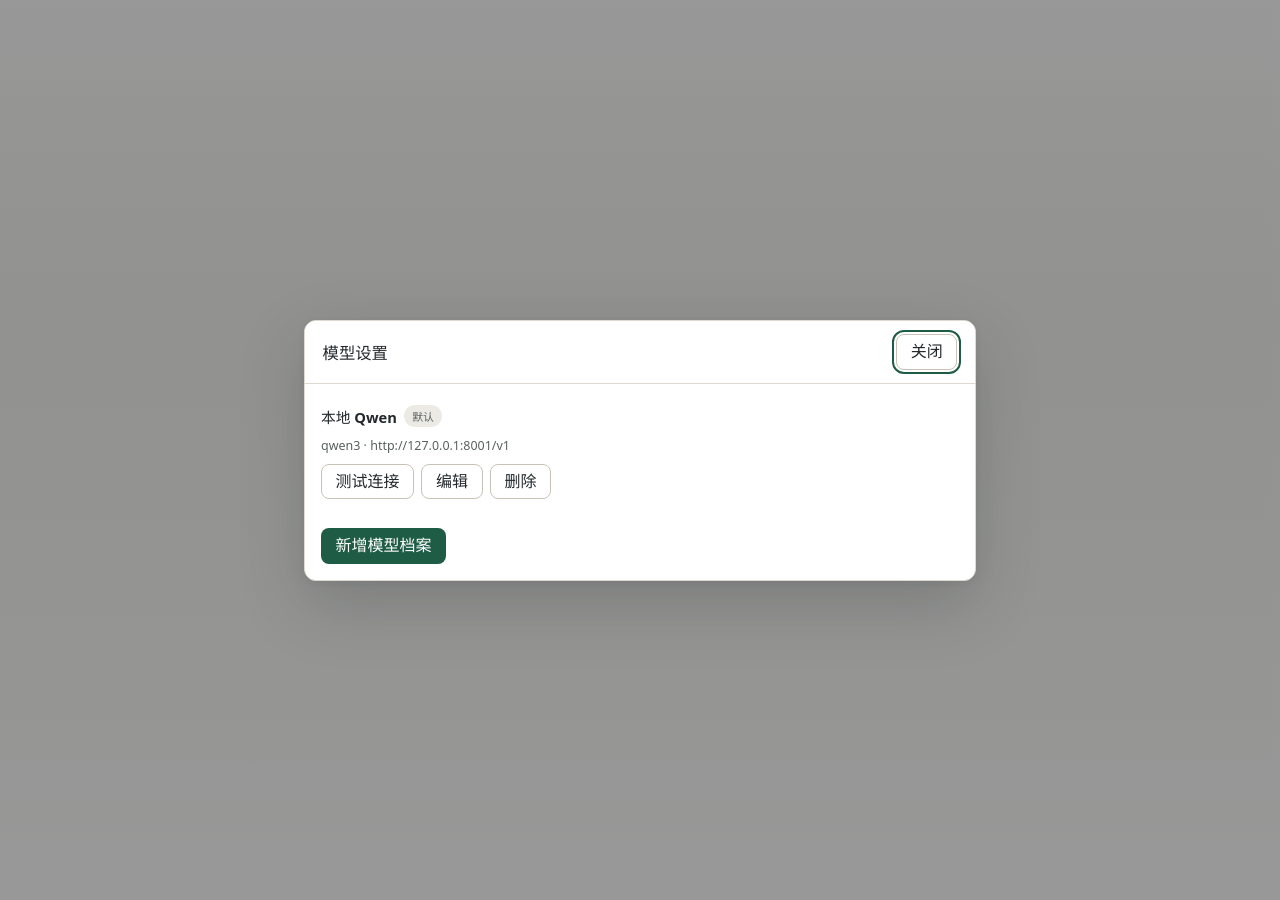
Test: explains when the service address cannot be reached
The width and height of the screenshot is (1280, 900).
Click the button "测试连接": (368, 481) [321,464,414,499]
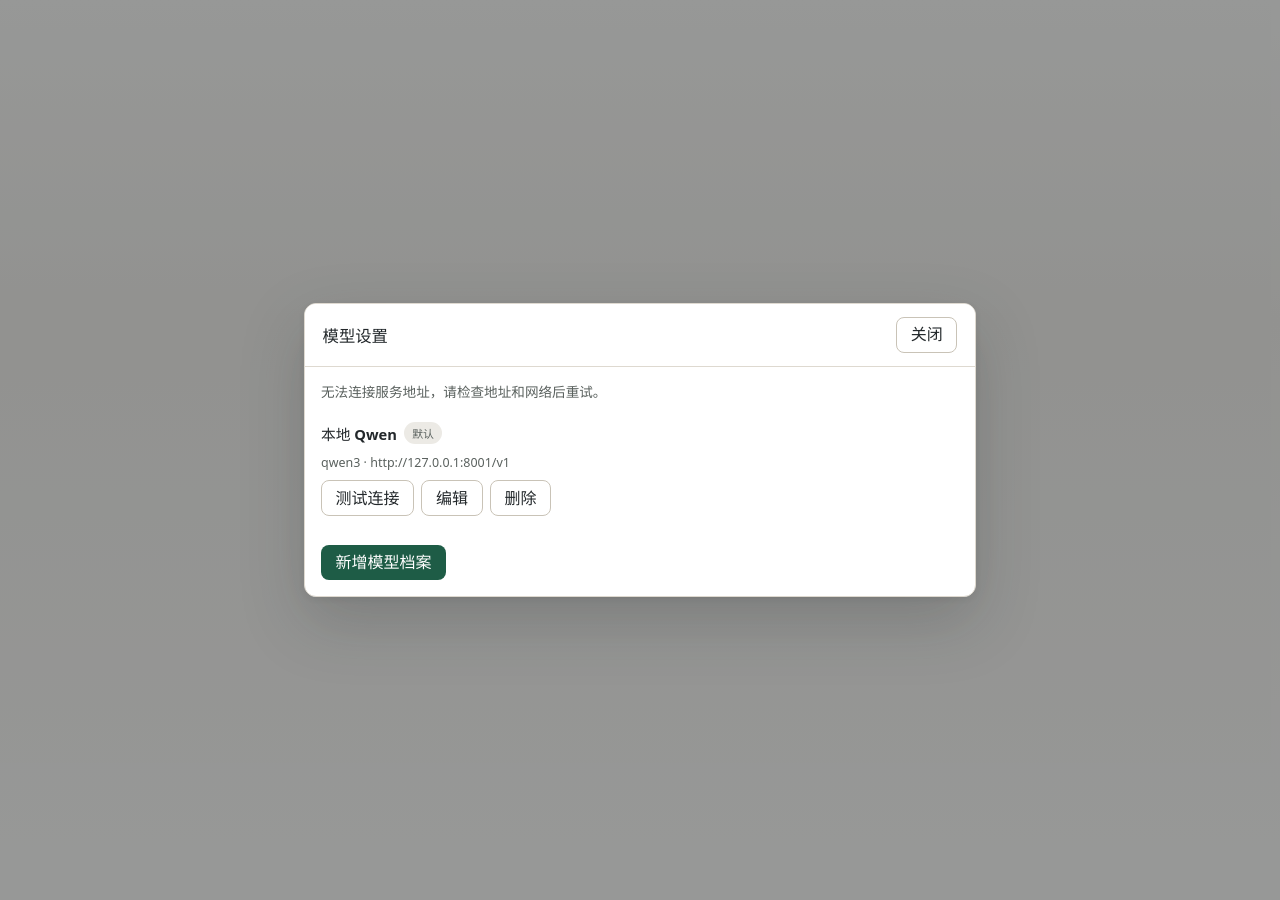
expect the message shows "无法连接服务地址": met, box [321,382,606,401]
